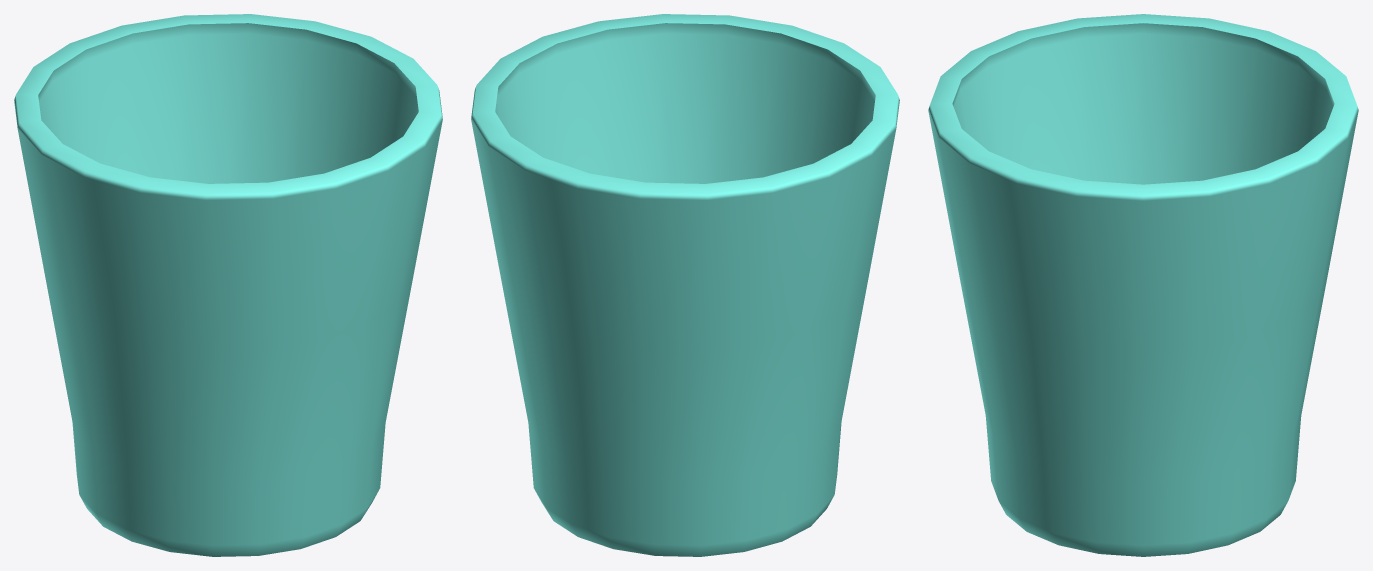
File: ShotGlass01.fbx
3 views of the same model, side by side, from view 1: azimuth 30°, elevation 25°; view 2: azimuth 150°, elevation 25°; view 3: azimuth 270°, elevation 25° (orthographic).
Visible parts, largest first — view 1: ShotGlass01_Modelling_v001:ShotGlass_Base; view 2: ShotGlass01_Modelling_v001:ShotGlass_Base; view 3: ShotGlass01_Modelling_v001:ShotGlass_Base.
Part boxes in pixels (x1,y1,x2,y2): ShotGlass01_Modelling_v001:ShotGlass_Base: (14, 14, 442, 556); ShotGlass01_Modelling_v001:ShotGlass_Base: (471, 14, 899, 556); ShotGlass01_Modelling_v001:ShotGlass_Base: (928, 14, 1358, 556).
Size of the model in its own units: 5.81 by 5.93 by 5.81.
Materials: 1 (1 with a texture image).
